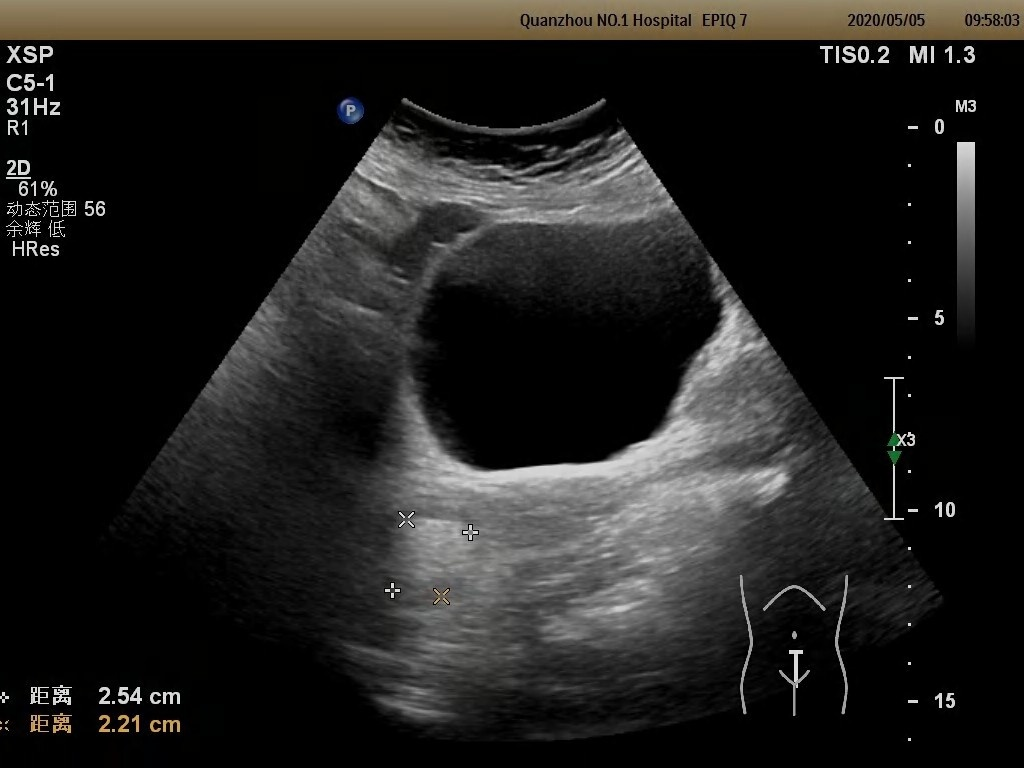肌瘤: (390, 518, 479, 595)
